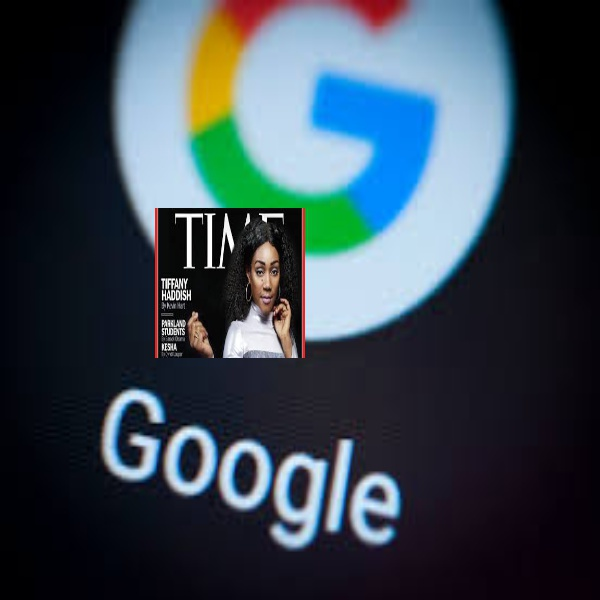time_cover: (148, 204, 310, 362)
